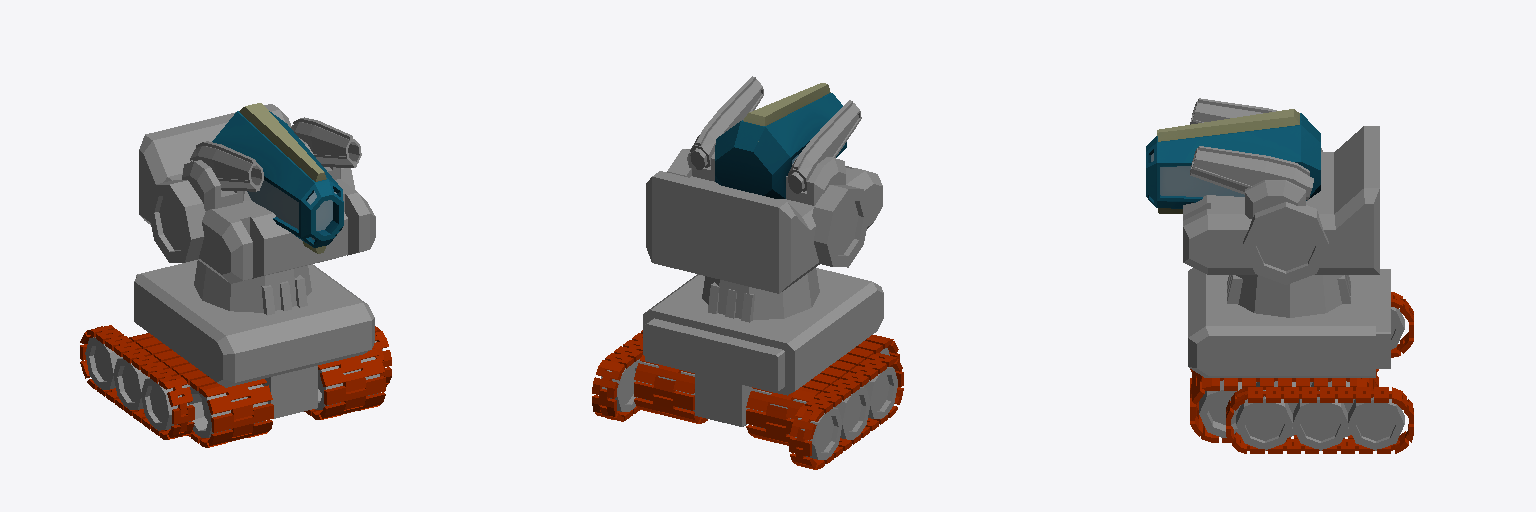
3 renders of one model, left to right at view 1: azimuth 30°, elevation 25°; view 2: azimuth 150°, elevation 25°; view 3: azimuth 270°, elevation 25°, orthographic.
Visible parts, largest first — view 1: Object004, Box038, Object012, Box043, Object013, Box042, Object011, Box044; view 2: Object004, Object012, Box038, Box043, Object013, Box042, Box044, Object014; view 3: Object004, Object014, Object012, Box044, Box042, Object011, Box043.
Part boxes in pixels (x1,y1,x2,y2): Object004: (134,103,375,418); Box038: (129,333,273,447); Object012: (190,117,361,191); Box043: (80,325,194,439); Object013: (85,337,188,430); Box042: (304,348,385,419); Object011: (184,357,379,437); Box044: (373,326,391,386); Object004: (643,83,883,426); Object012: (690,76,861,193); Box038: (746,335,899,445); Box043: (789,353,903,469); Object013: (795,367,897,459); Box042: (634,355,707,423); Box044: (592,330,642,421); Object014: (601,359,643,411); Object004: (1146,109,1390,384); Object014: (1236,390,1404,450); Object012: (1190,98,1313,200); Box044: (1226,387,1413,453); Box042: (1190,371,1378,442); Object011: (1199,380,1354,437); Box043: (1391,292,1413,357).
Bounding box in the file's own units: 139 × 178 × 149.
Materials: 4 (1 with a texture image).